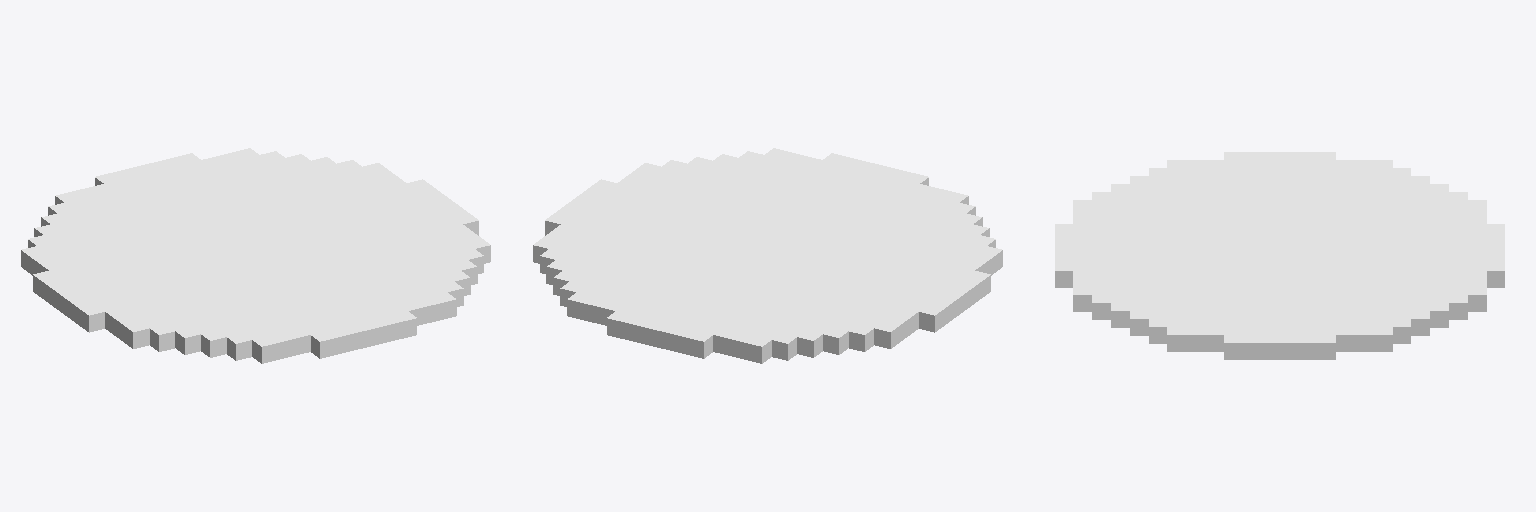
File: fountain.vox-0.obj
The picture shows the model from 3 angles: view 1: azimuth 30°, elevation 25°; view 2: azimuth 150°, elevation 25°; view 3: azimuth 270°, elevation 25°; orthographic projection.
Parts seen in each view (by area): view 1: object 1; view 2: object 1; view 3: object 1.
Boxes of the visible parts, box(x1,y1,x2,y2) form: object 1: box(21, 148, 490, 363); object 1: box(533, 148, 1002, 363); object 1: box(1055, 152, 1504, 359).
Size of the model in its own units: 2.4 by 0.1 by 2.4.